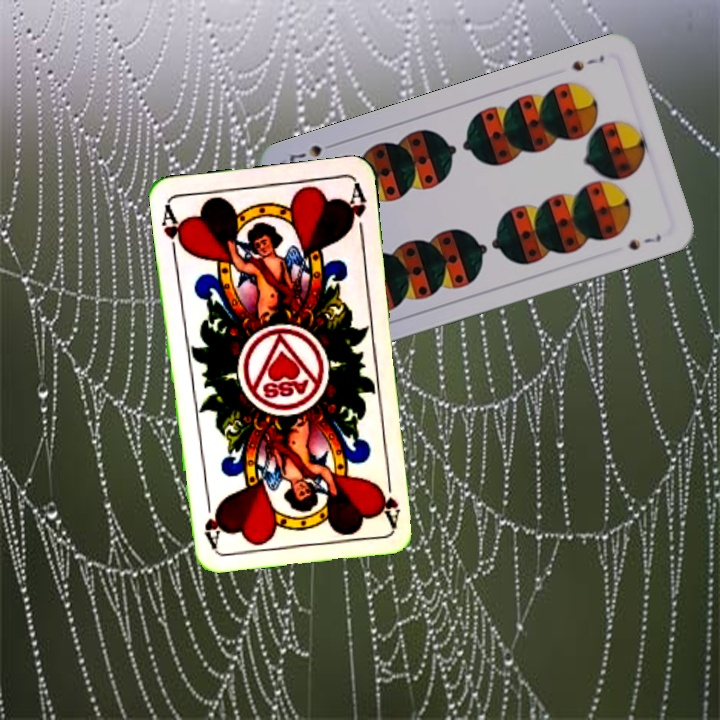HA: (158, 201, 189, 260), (374, 468, 403, 528)
S7: (568, 51, 607, 74)
